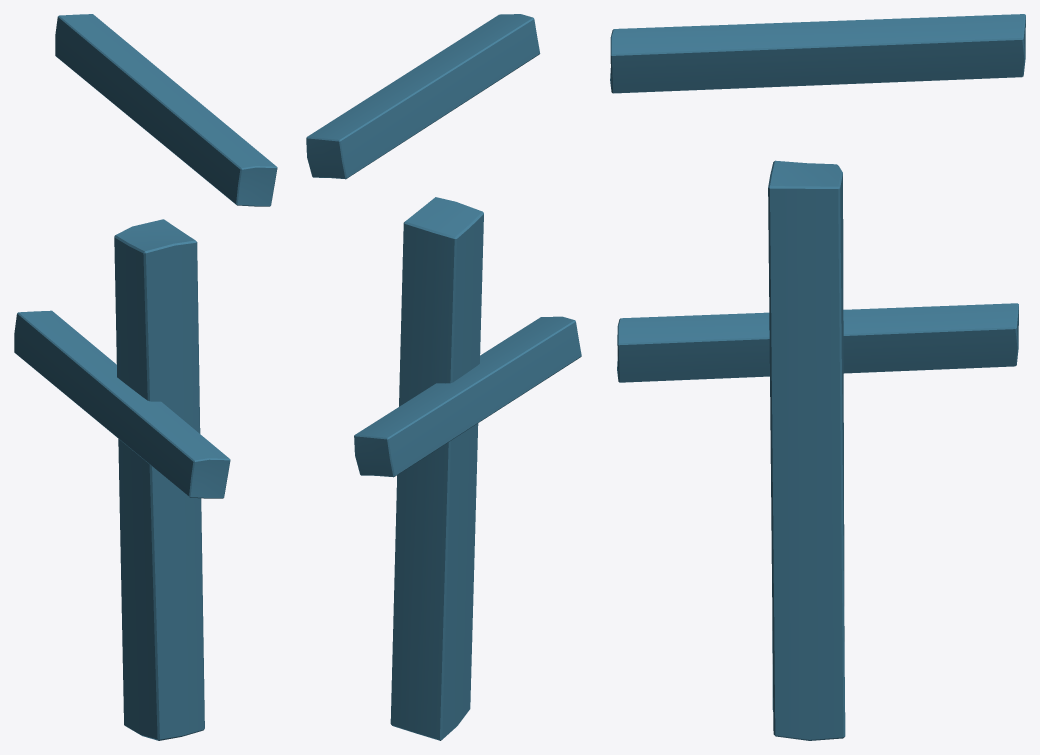
Rendered from Gallows_03B_Lod0.fbx.
The picture shows the model from 3 angles, left to right: view 1: azimuth 30°, elevation 25°; view 2: azimuth 150°, elevation 25°; view 3: azimuth 270°, elevation 25°; orthographic projection. The views are drawn at different scales.
Visible parts, largest first — view 1: Gallows_03B_Lod0; view 2: Gallows_03B_Lod0; view 3: Gallows_03B_Lod0.
Boxes of the visible parts, x1,y1,x2,y2 form: Gallows_03B_Lod0: [14, 14, 277, 740]; Gallows_03B_Lod0: [306, 14, 581, 740]; Gallows_03B_Lod0: [610, 14, 1025, 740].
Size of the model in its own units: 19.83 by 139 by 73.7.
